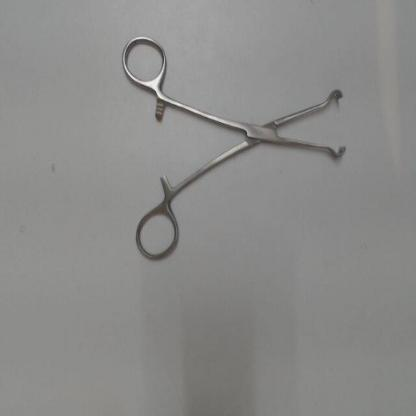Babcock Tissue Forceps: (117, 28, 351, 268)
